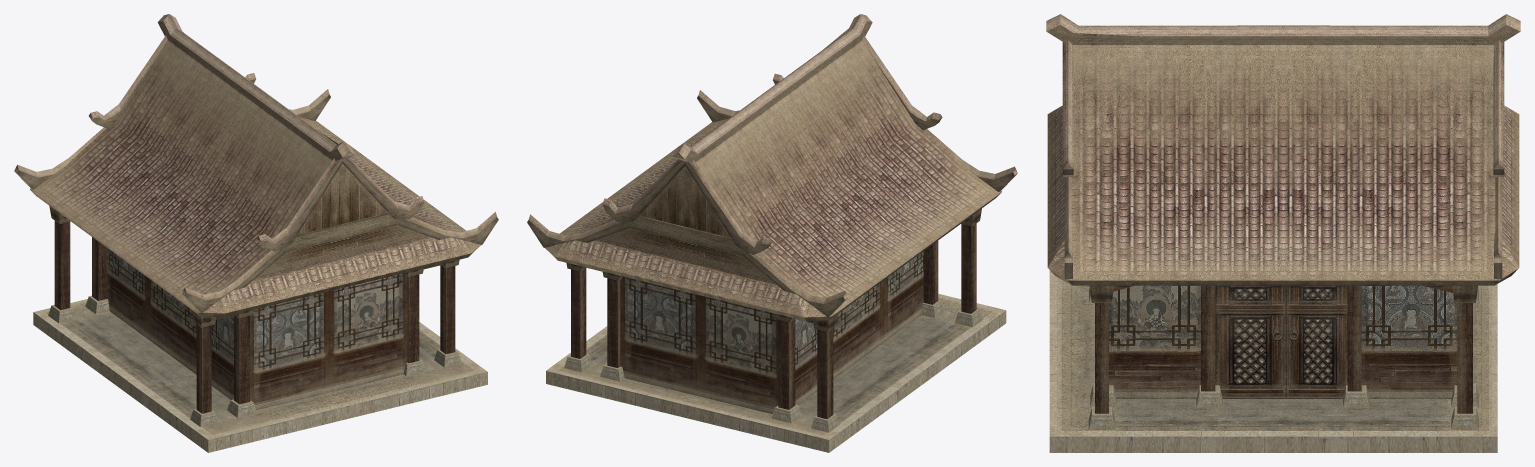
The model's file is desert-032-shamanhouse.fbx.
The picture shows the model from 3 angles, left to right: view 1: azimuth 30°, elevation 25°; view 2: azimuth 150°, elevation 25°; view 3: azimuth 270°, elevation 25°; orthographic projection. The views are drawn at different scales.
Visible parts, largest first — view 1: desert-032-shamanhouse-1, desert-032-shamanhouse-2; view 2: desert-032-shamanhouse-1, desert-032-shamanhouse-2; view 3: desert-032-shamanhouse-1, desert-032-shamanhouse-2.
Part boxes in pixels (x1=…): desert-032-shamanhouse-1: x1=14, y1=14, x2=498, y2=317; desert-032-shamanhouse-2: x1=33, y1=206, x2=487, y2=452; desert-032-shamanhouse-1: x1=527, y1=14, x2=1017, y2=321; desert-032-shamanhouse-2: x1=546, y1=208, x2=1006, y2=452; desert-032-shamanhouse-1: x1=1046, y1=14, x2=1520, y2=285; desert-032-shamanhouse-2: x1=1049, y1=270, x2=1497, y2=452.
Size of the model in its own units: 8.08 by 6.75 by 8.26.
